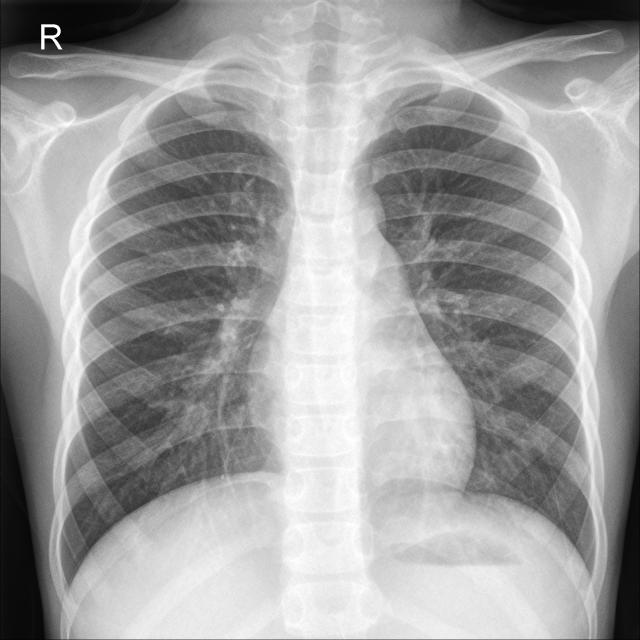no-pneumonia: (61, 96, 291, 581), (367, 89, 601, 564)
